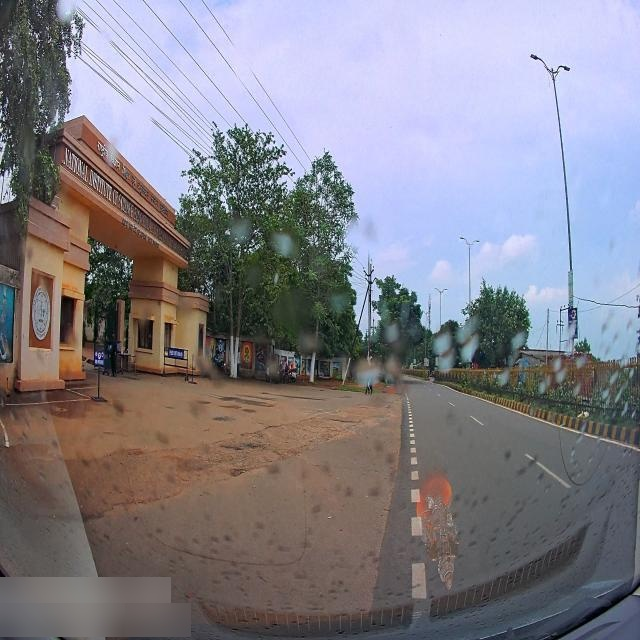pothole: (160, 414, 361, 494)
